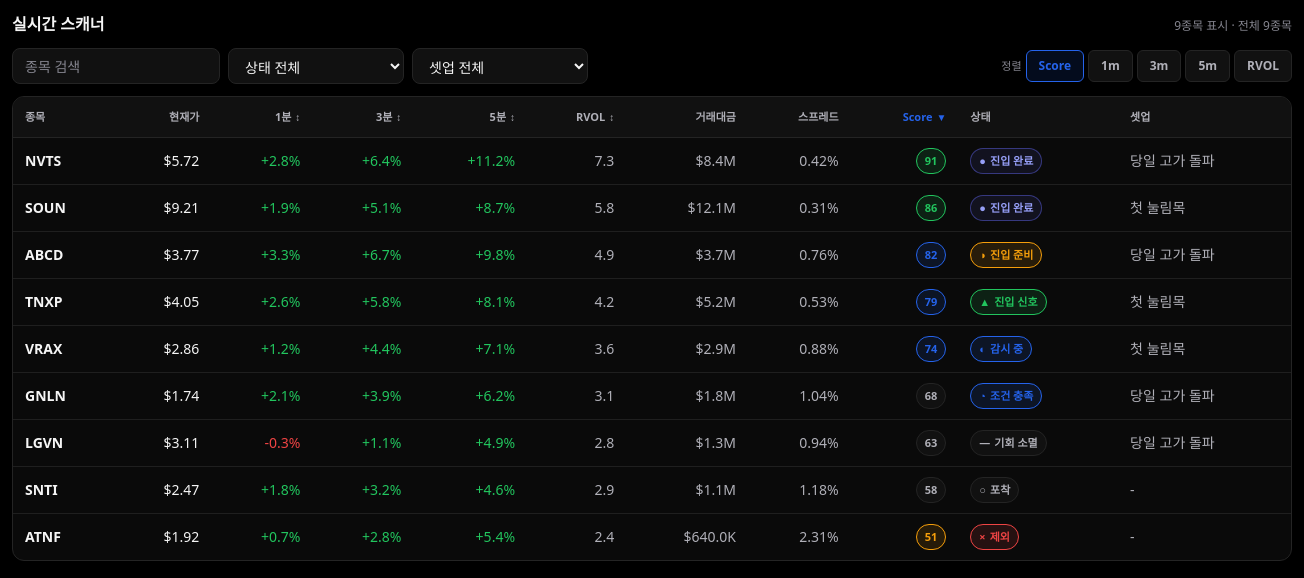
Strategy B scanner behaviour › states an empty result instead of an empty table
Type "ZZZZ" into the field labelled "종목 검색" at (116, 66), box [12, 48, 220, 84]
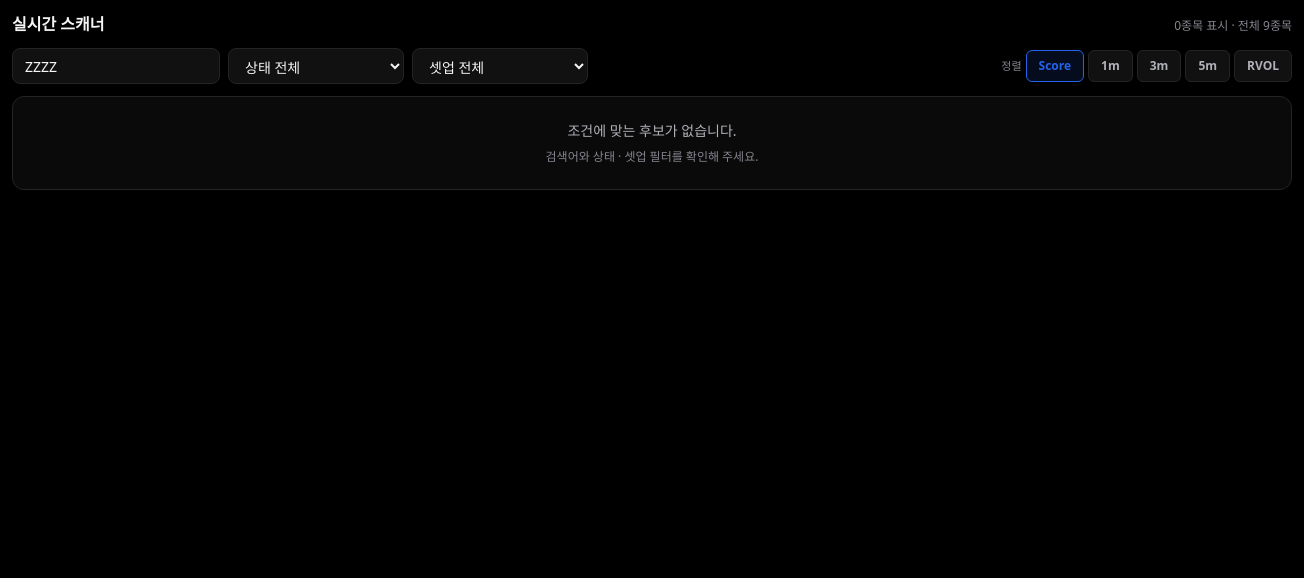
expect the table is gone: met
expect the text "조건에 맞는 후보가 없습니다." is shown: met, box [567, 121, 737, 140]
